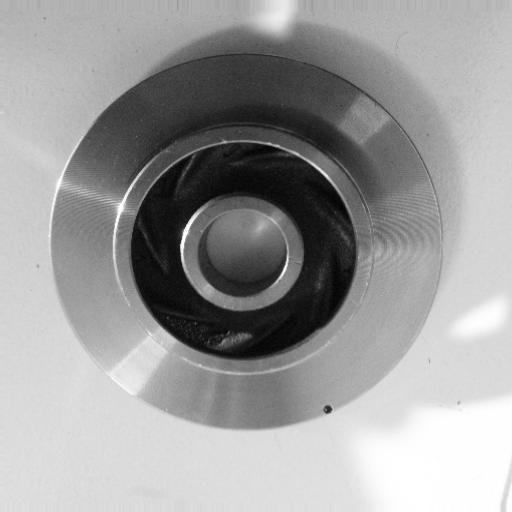pit: (318, 392, 343, 422)
unpolished_casting: (49, 48, 445, 434)
